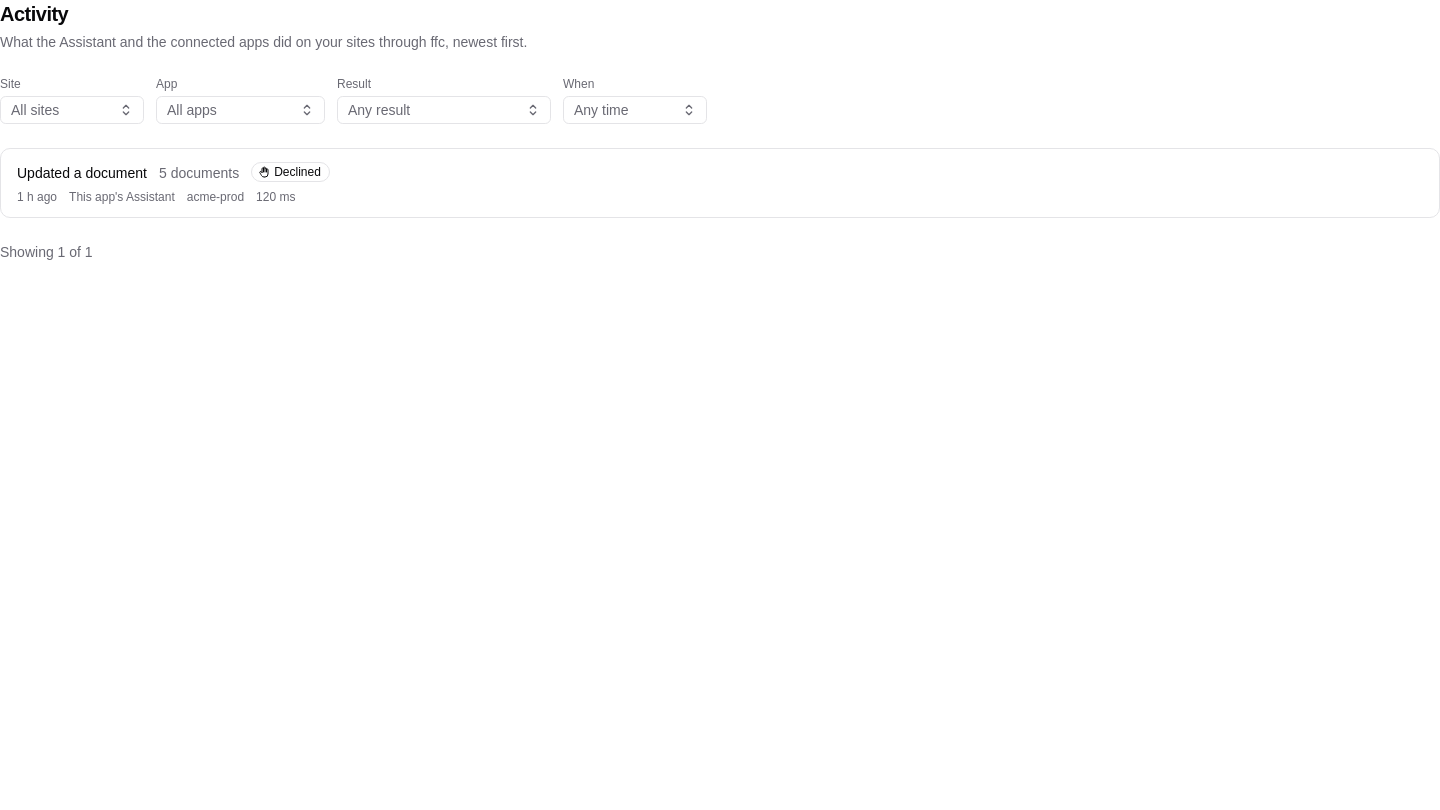
activity screen › opens the details of a row, with its arguments
The image size is (1440, 810).
Click the button "Updated a document". click: (82, 173)
box: 1,149 -> 1439,217
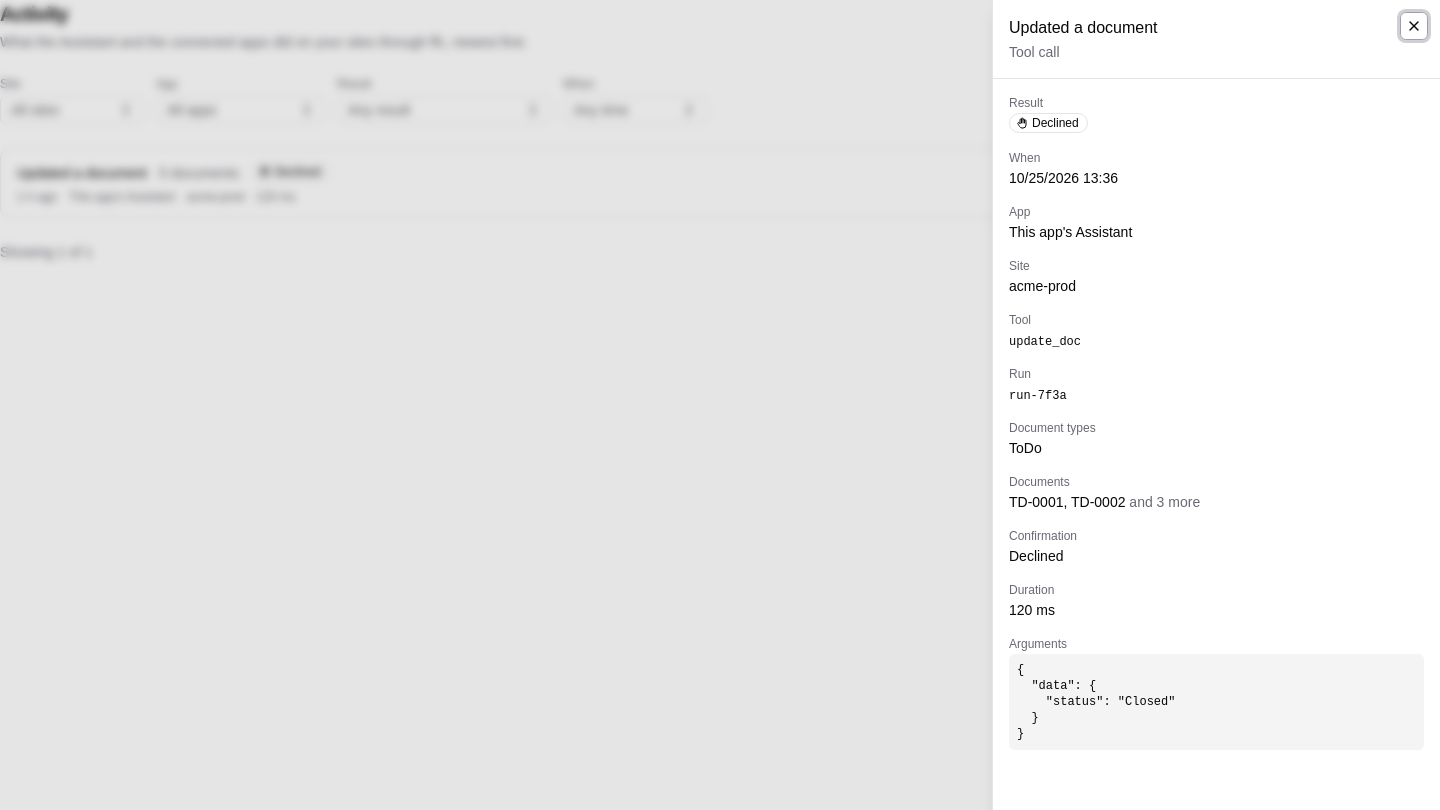
Result: the text "update_doc" is shown at 1009,335 -> 1081,349
Result: the text "run-7f3a" is shown at 1009,389 -> 1067,403
Result: the text "and 3 more" is shown at 1126,494 -> 1200,510
